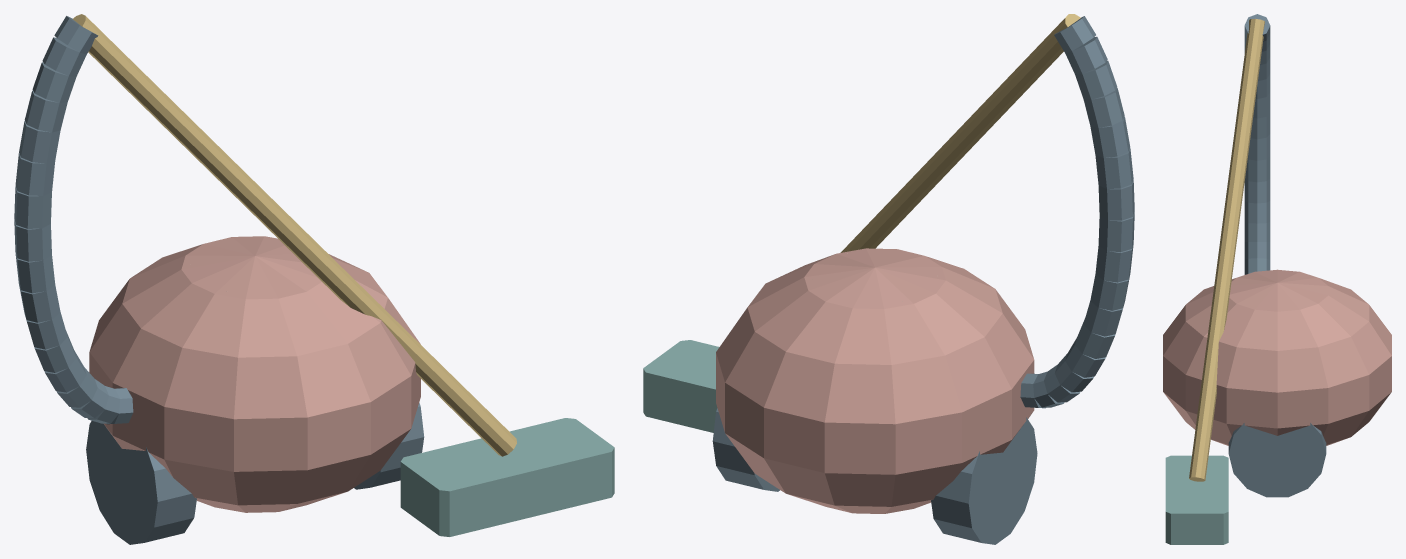
File: vacuum-stand.glb
3 views of the same model, side by side, from view 1: azimuth 30°, elevation 25°; view 2: azimuth 150°, elevation 25°; view 3: azimuth 270°, elevation 25° (orthographic). The views are drawn at different scales.
Parts seen in each view (by area): view 1: vacuum-stand; view 2: vacuum-stand; view 3: vacuum-stand.
Boxes of the visible parts, box(x1,y1,x2,y2) form: vacuum-stand: box(14, 14, 614, 544); vacuum-stand: box(643, 14, 1134, 544); vacuum-stand: box(1163, 14, 1391, 544).
Bounding box in the file's own units: 1.46 × 1.43 × 0.7984.
